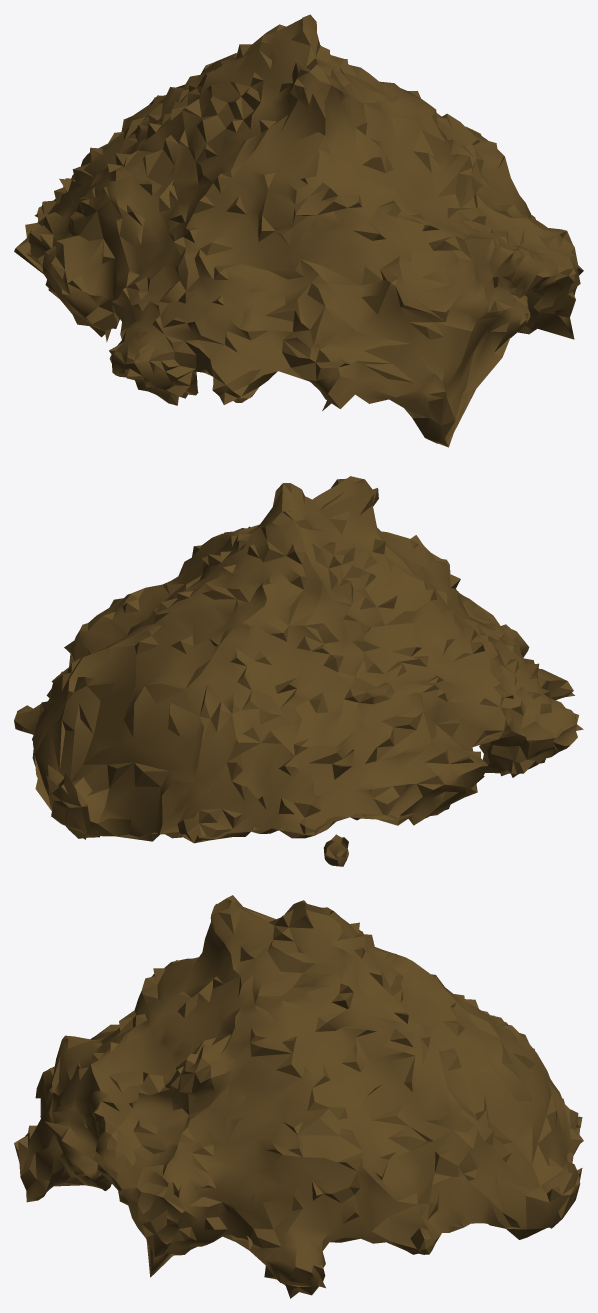
The model's file is dirt.glb.
3 renders of one model, top to bottom at view 1: azimuth 30°, elevation 25°; view 2: azimuth 150°, elevation 25°; view 3: azimuth 270°, elevation 25°, orthographic. The views are drawn at different scales.
Visible parts, largest first — view 1: Dirt.002; view 2: Dirt.002; view 3: Dirt.002.
Part boxes in pixels (x1,y1,x2,y2): Dirt.002: [14, 14, 583, 447]; Dirt.002: [14, 476, 583, 866]; Dirt.002: [14, 895, 583, 1298].
Size of the model in its own units: 0.6682 by 0.4204 by 0.7156.
